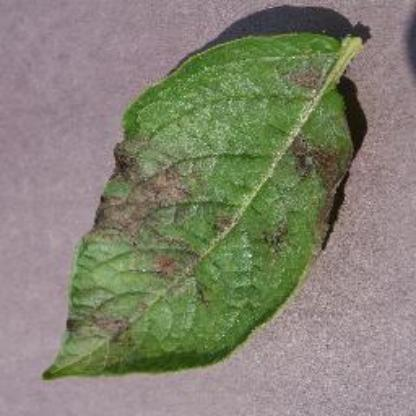Late-Blight: (58, 20, 386, 378)
